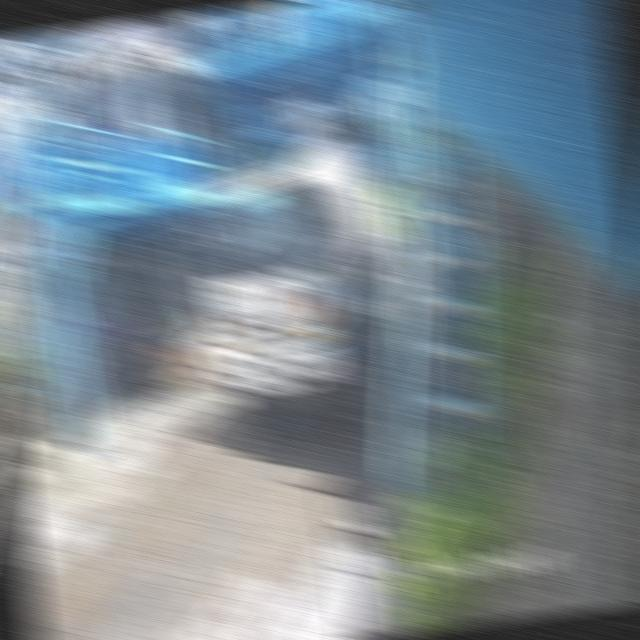cement_mixer_truck: (192, 132, 404, 429)
